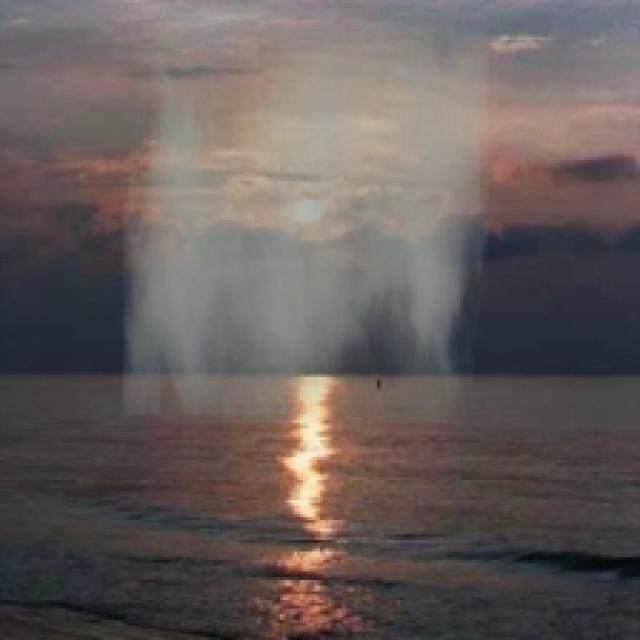smoke: (123, 26, 488, 423)
